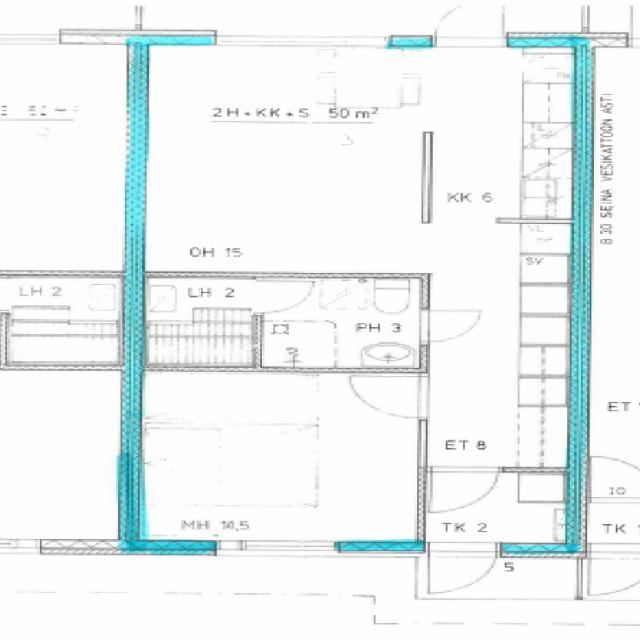door: (350, 376, 431, 420), (434, 544, 498, 598), (433, 468, 502, 518), (436, 0, 505, 46), (420, 308, 484, 342), (254, 280, 316, 314)
